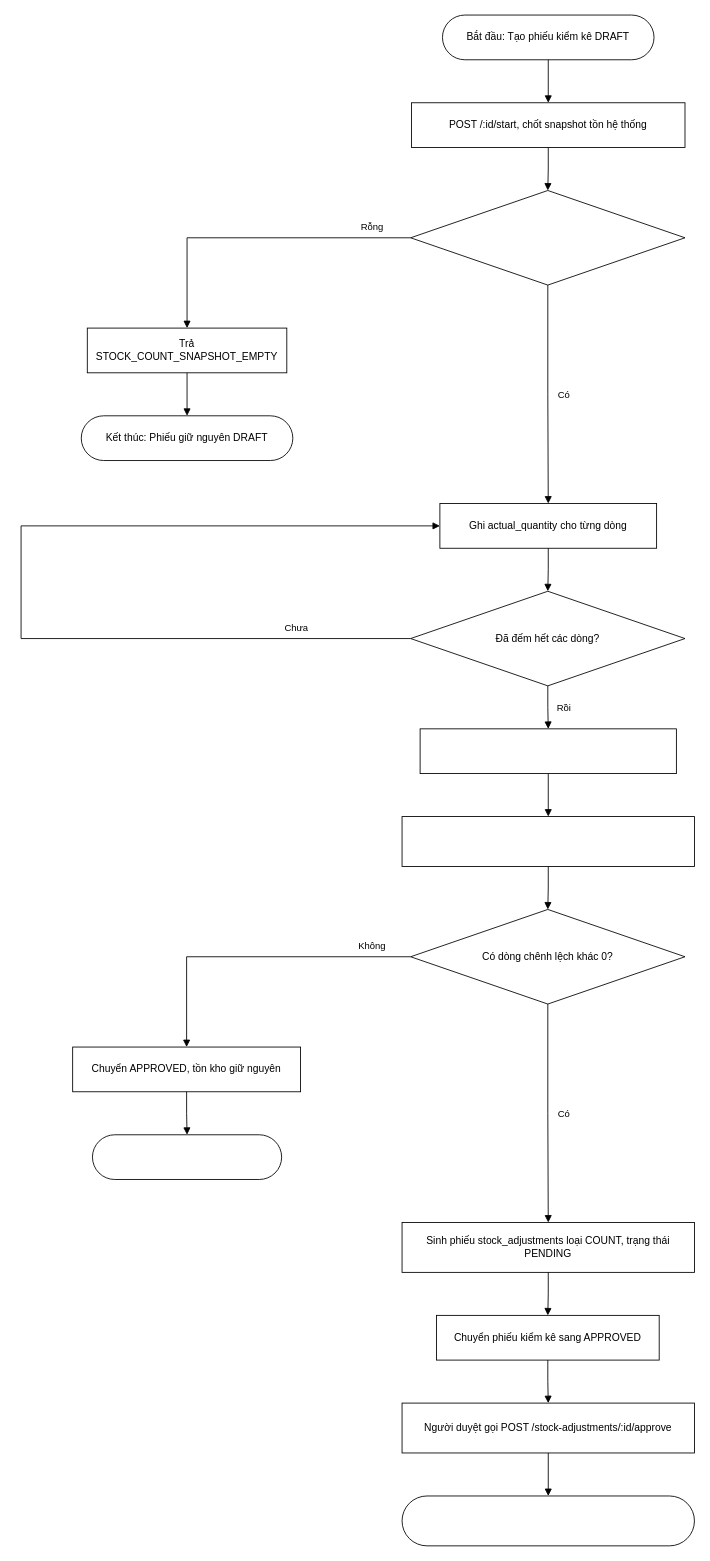
This 710x1561 diagram has some shape labels left out. Each missing label, with the centre of its shape:
"Kết thúc: Kiểm kê khớp" goes at point (187, 1156).
"Kết thúc: Tồn kho đổi sau khi duyệt phiếu điều chỉnh" goes at point (547, 1520).
"POST /:id/approve, hệ thống so sánh số đếm với tồn" goes at point (547, 841).
"POST /:id/submit, phiếu chuyển SUBMITTED" goes at point (547, 751).
"Snapshot có dòng nào?" goes at point (547, 237).
